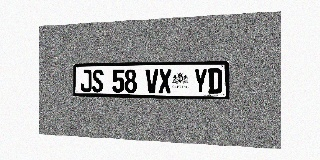5: (112, 69, 124, 93)
8: (125, 69, 137, 93)
D: (208, 68, 222, 94)
J: (81, 70, 92, 92)
S: (92, 70, 103, 92)
V: (146, 69, 158, 93)
X: (159, 69, 171, 93)
Y: (194, 68, 207, 94)
